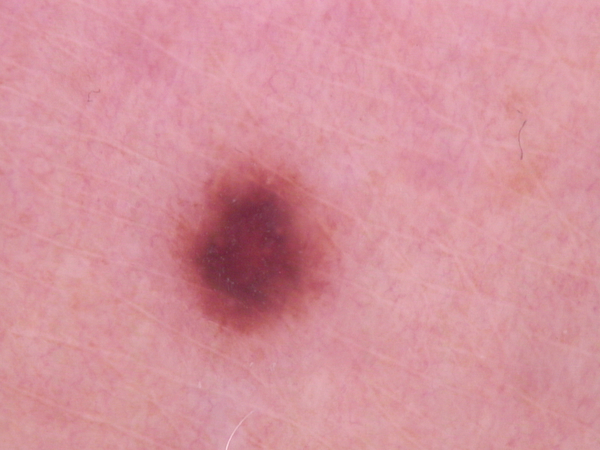Detected Lesion: (170, 161, 338, 338)
